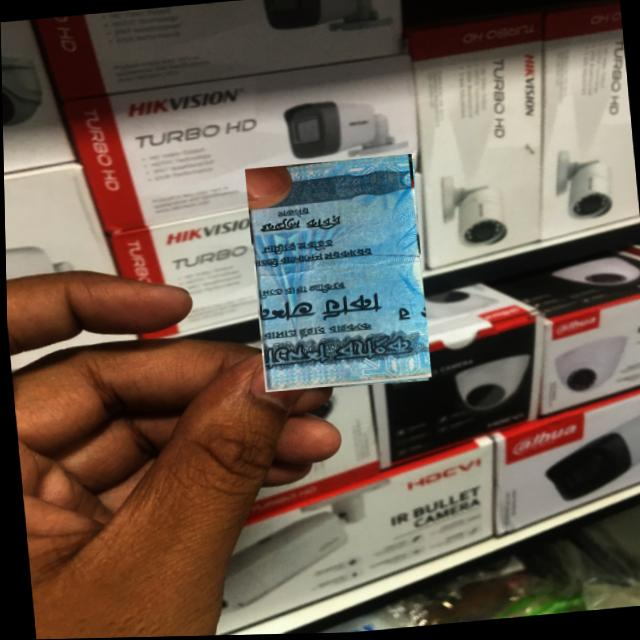Taka: (244, 156, 430, 394)
